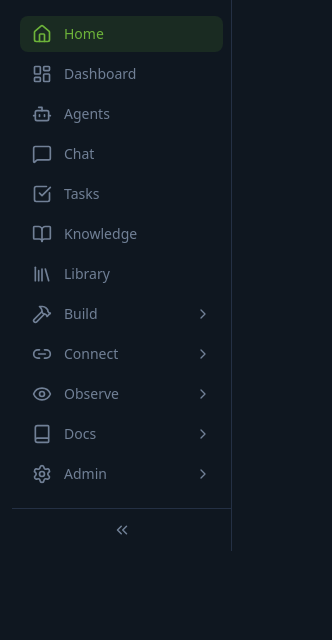
Test case: Expandable docs nav (Sidebar) › hides children after clicking Docs again
Click the button "Docs" at (122, 434), box [20,416,223,452]
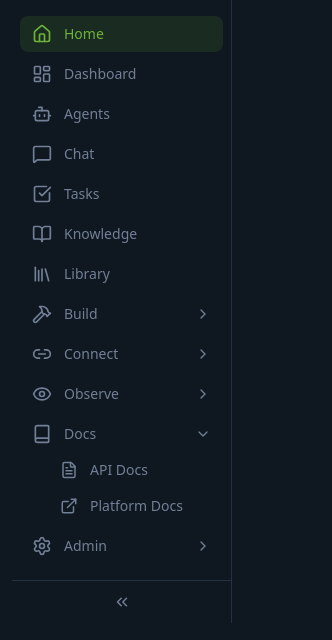
Click the button "Docs" at (122, 434), box [20,416,223,452]
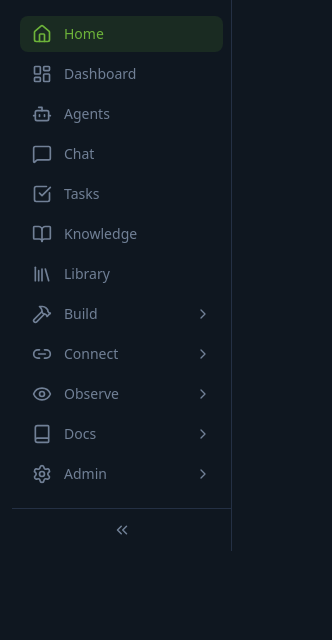
Expected: the link "API Docs" is gone
Expected: the link "Platform Docs" is gone
